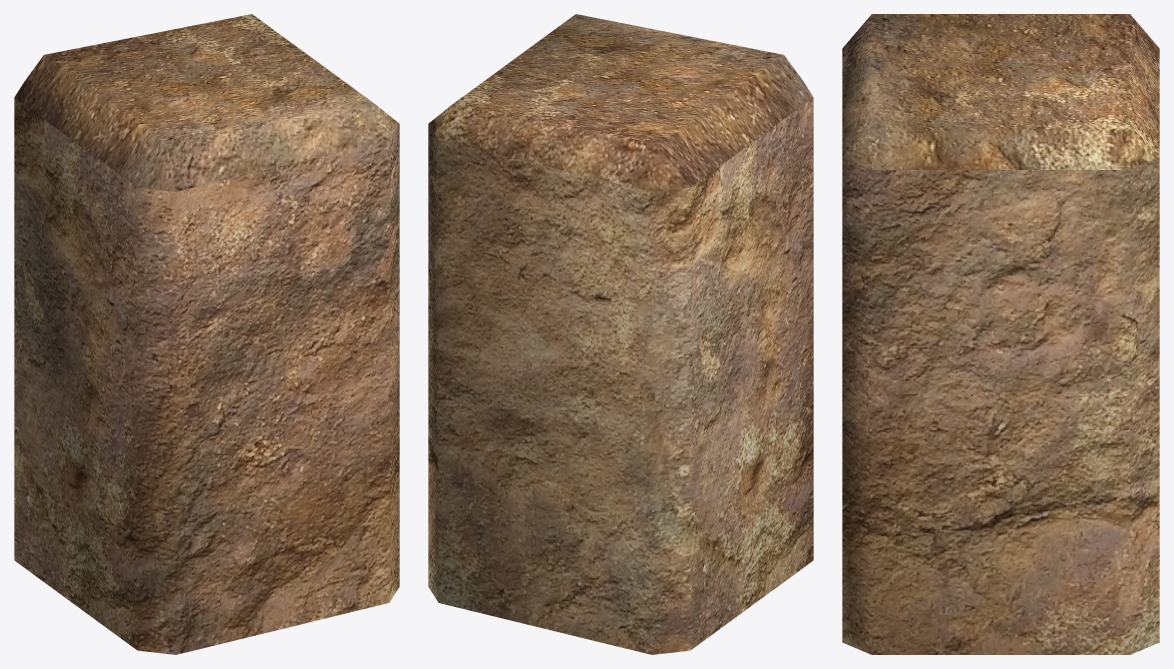
File: stone_cubic_weathered_01.dae
3 views of the same model, side by side, from view 1: azimuth 30°, elevation 25°; view 2: azimuth 150°, elevation 25°; view 3: azimuth 270°, elevation 25° (orthographic). The views are drawn at different scales.
Parts seen in each view (by area): view 1: Cube_006; view 2: Cube_006; view 3: Cube_006.
Part boxes in pixels (x1=…): Cube_006: x1=14, y1=14, x2=399, y2=654; Cube_006: x1=428, y1=14, x2=813, y2=654; Cube_006: x1=842, y1=14, x2=1159, y2=654.
Bounding box in the file's own units: 6.22 × 6.22 × 11.29.
